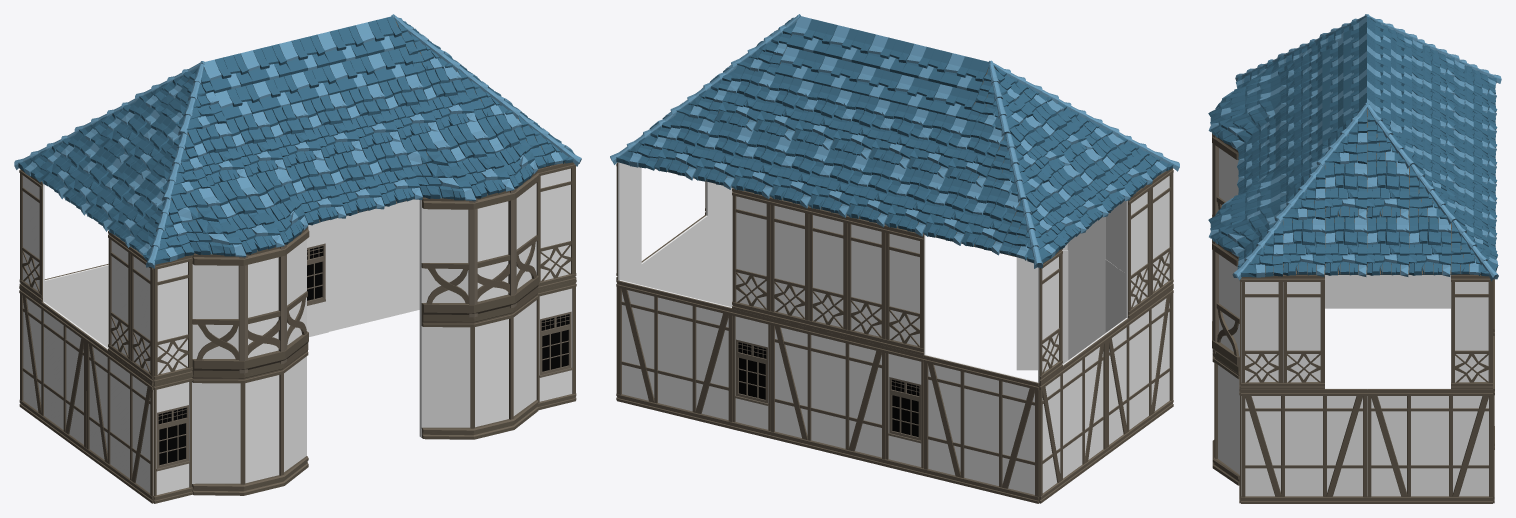
File: House_14_parts.fbx
3 views of the same model, side by side, from view 1: azimuth 30°, elevation 25°; view 2: azimuth 150°, elevation 25°; view 3: azimuth 270°, elevation 25° (orthographic). The views are drawn at different scales.
Parts seen in each view (by area): view 1: WINDOW_01_Balkon_3, WINDOW_02_Balkon_3, WINDOW_01_Balkon_2, WINDOW_02_Balkon_2, WALL_02_6, ROOF_base_round_3, ROOF_base_round_2, WALL_02_2, WALL_02_3, WALL_04_4, WALL_04_3, WINDOW_04_4 (+41 smaller); view 2: WALL_02_4, WALL_02_6, WALL_02_5, WALL_02_3, WALL_02_2, WINDOW_01_Balkon_2, WALL_04_8, WALL_04_10, WALL_04_11, WALL_04_12, WALL_04_9, WINDOW_04_5 (+49 smaller); view 3: WALL_02_7, WALL_02_8, WALL_04_14, WALL_04_13, WALL_04_15, ROOF_base_round_3, ROOF_base_round_2, WINDOW_02_Balkon_3, WINDOW_01_Balkon_3, WALL_02_3, ROOF_base_14, ROOF_base_17 (+65 smaller).
Boxes of the visible parts, x1,y1,x2,y2 form: WINDOW_01_Balkon_3: [419, 291, 538, 439]; WINDOW_02_Balkon_3: [419, 170, 538, 319]; WINDOW_01_Balkon_2: [192, 347, 308, 495]; WINDOW_02_Balkon_2: [192, 226, 309, 375]; WALL_02_6: [328, 199, 419, 331]; ROOF_base_round_3: [400, 112, 537, 201]; ROOF_base_round_2: [171, 169, 308, 257]; WALL_02_2: [85, 334, 153, 503]; WALL_02_3: [19, 286, 88, 454]; WALL_04_4: [153, 255, 192, 383]; WALL_04_3: [536, 162, 575, 289]; WINDOW_04_4: [153, 374, 192, 503]; WALL_02_4: [923, 354, 1039, 503]; WALL_02_6: [617, 280, 732, 428]; WALL_02_5: [770, 318, 885, 466]; WALL_02_3: [1039, 334, 1107, 503]; WALL_02_2: [1104, 286, 1173, 454]; WINDOW_01_Balkon_2: [1016, 250, 1126, 370]; WALL_04_8: [885, 225, 925, 355]; WALL_04_10: [808, 206, 847, 336]; WALL_04_11: [770, 197, 809, 327]; WALL_04_12: [732, 188, 770, 317]; WALL_04_9: [847, 216, 885, 345]; WINDOW_04_5: [732, 309, 770, 438]; WALL_02_7: [1367, 388, 1492, 503]; WALL_02_8: [1241, 388, 1366, 503]; WALL_04_14: [1283, 275, 1324, 389]; WALL_04_13: [1451, 275, 1492, 389]; WALL_04_15: [1241, 275, 1282, 389]; ROOF_base_round_3: [1208, 165, 1281, 256]; ROOF_base_round_2: [1208, 58, 1280, 149]; WINDOW_02_Balkon_3: [1212, 240, 1239, 371]; WINDOW_01_Balkon_3: [1212, 354, 1239, 485]; WALL_02_3: [1367, 275, 1450, 308]; ROOF_base_14: [1324, 216, 1367, 276]; ROOF_base_17: [1366, 216, 1409, 276].
Size of the model in its own units: 1141 by 912 by 699.
